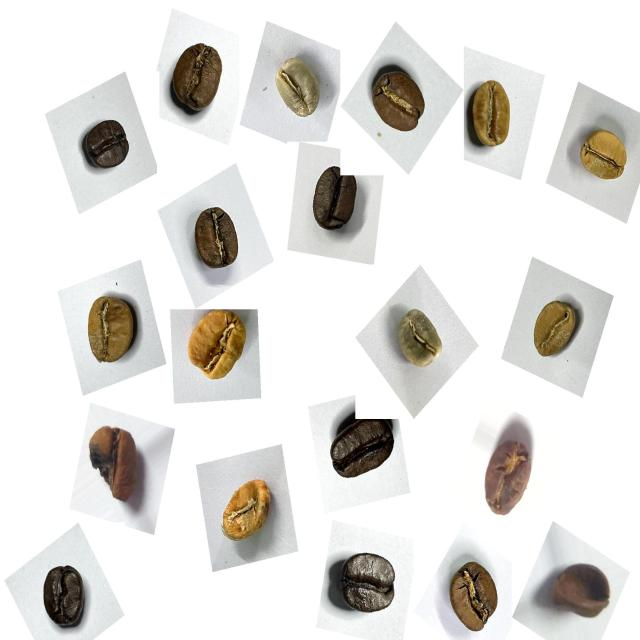bad: (82, 415, 156, 512), (476, 425, 542, 527), (544, 551, 619, 632)
dark: (328, 538, 406, 630), (321, 413, 403, 493), (302, 162, 368, 245), (31, 556, 96, 640), (74, 109, 138, 183)
green: (265, 48, 332, 134), (387, 302, 452, 383)
light: (177, 308, 255, 393), (76, 283, 148, 375), (210, 468, 279, 557), (461, 67, 527, 159), (523, 286, 591, 368), (570, 119, 637, 197)
medium: (162, 32, 234, 124), (360, 61, 434, 146), (437, 554, 508, 640), (184, 199, 250, 280)
